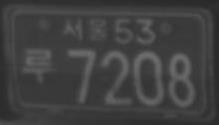0: (133, 48, 165, 108)
2: (99, 47, 133, 106)
3: (134, 16, 157, 46)
5: (112, 16, 134, 45)
7: (64, 46, 97, 104)
8: (165, 50, 197, 110)
루: (21, 47, 57, 84)
서울_O: (62, 16, 109, 43)
